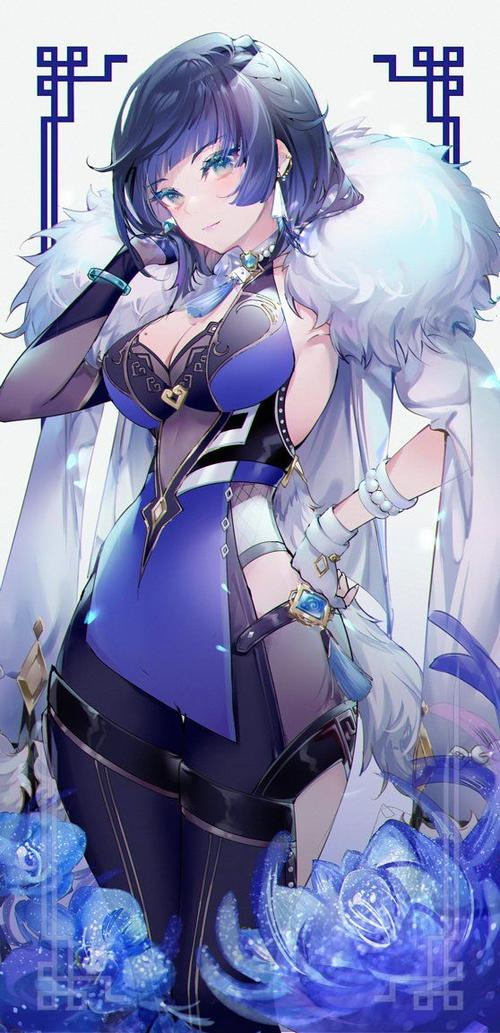夜兰: (2, 35, 500, 1027)
